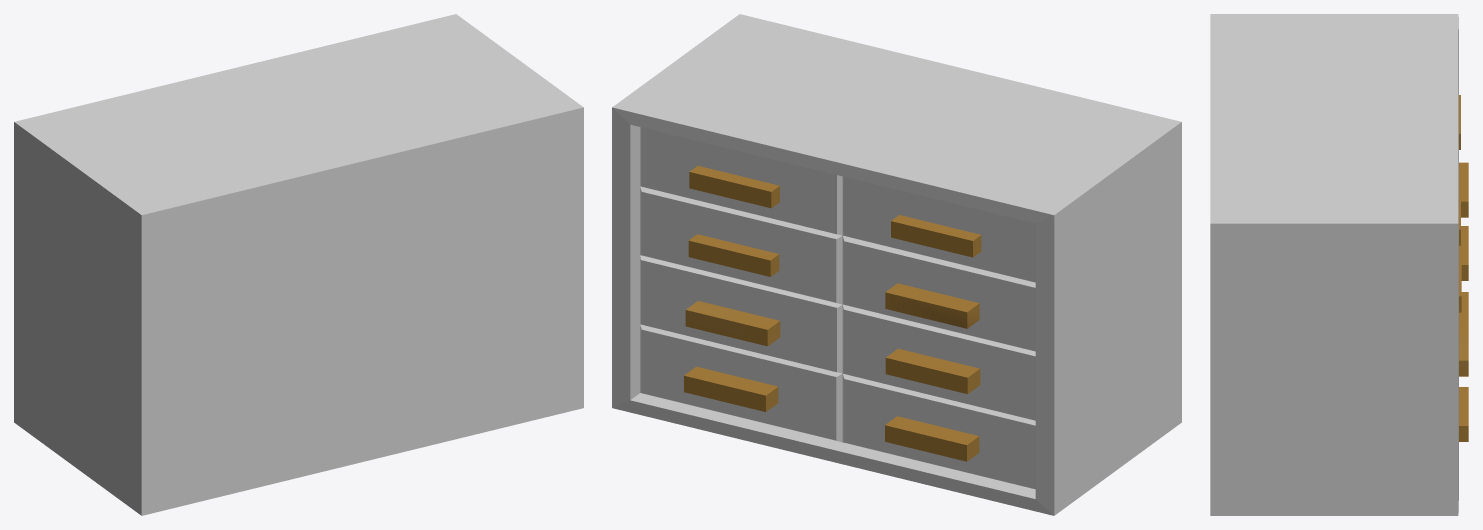
File: FBX_Cabinet.fbx
3 views of the same model, side by side, from view 1: azimuth 30°, elevation 25°; view 2: azimuth 150°, elevation 25°; view 3: azimuth 270°, elevation 25° (orthographic). The views are drawn at different scales.
Parts seen in each view (by area): view 1: FBX_Cabinet; view 2: FBX_Cabinet; view 3: FBX_Cabinet.
Part boxes in pixels (x1,y1,x2,y2): FBX_Cabinet: [14, 14, 583, 515]; FBX_Cabinet: [612, 14, 1181, 515]; FBX_Cabinet: [1210, 14, 1468, 515].
Bounding box in the file's own units: 200 × 130 × 104.
